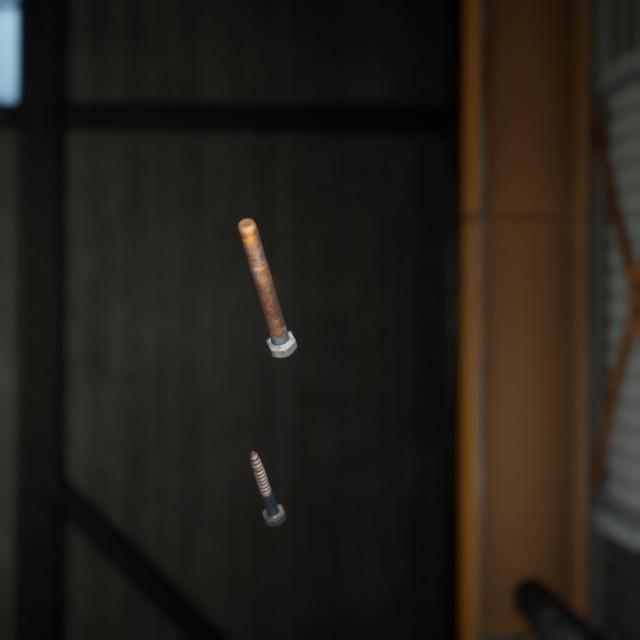bolt: (233, 195, 301, 345), (245, 424, 291, 509)
